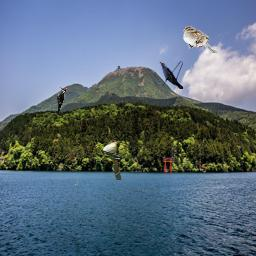Cuckoo: (102, 140, 122, 180), (159, 61, 183, 89)
Sparrow: (183, 26, 217, 53)
Woodpecker: (57, 87, 67, 116)
